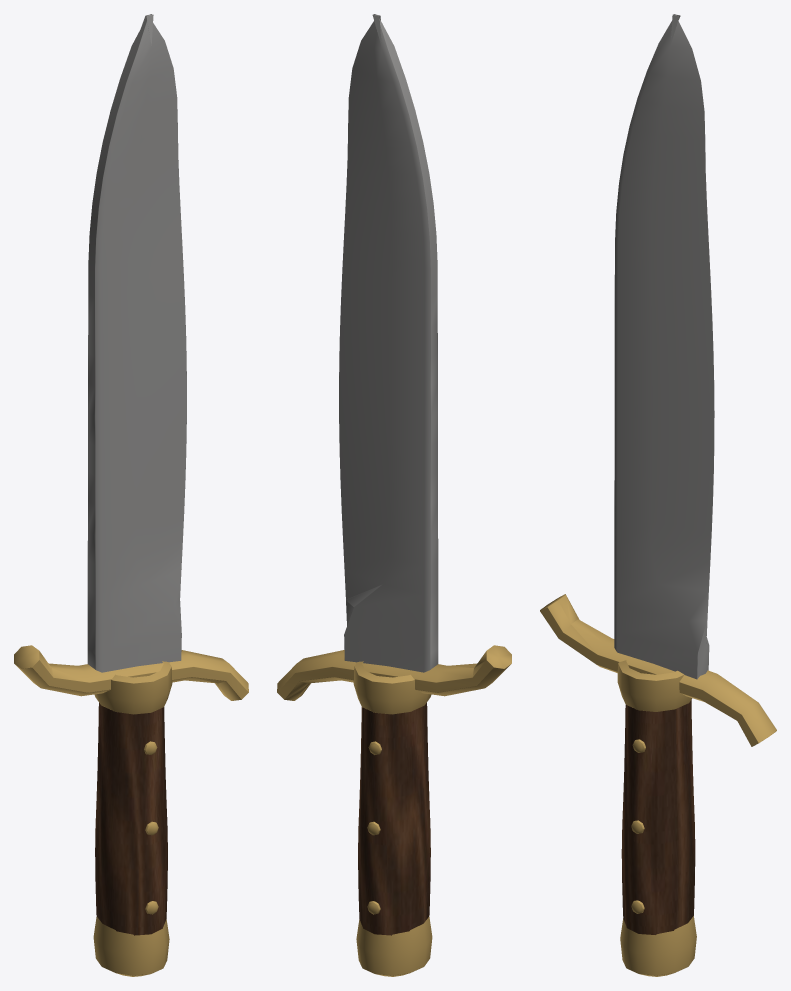
The model's file is gear_frontier_bowie.glb.
3 views of the same model, side by side, from view 1: azimuth 30°, elevation 25°; view 2: azimuth 150°, elevation 25°; view 3: azimuth 330°, elevation 25° (orthographic).
Visible parts, largest first — view 1: gear_frontier_bowie; view 2: gear_frontier_bowie; view 3: gear_frontier_bowie.
Boxes of the visible parts, left/top/right/bottom form: gear_frontier_bowie: left=14, top=14, right=248, bottom=976; gear_frontier_bowie: left=277, top=14, right=511, bottom=976; gear_frontier_bowie: left=540, top=14, right=776, bottom=976.
Size of the model in its own units: 0.1051 by 0.4195 by 0.0356.
Materials: 3 (1 with a texture image).
